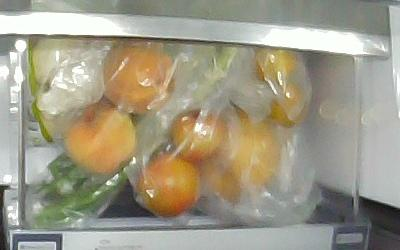peach_vinyl: (62, 98, 135, 173), (102, 44, 177, 112)
pear_vinyl: (200, 111, 279, 200)
tangerine_vinyl: (254, 48, 300, 86), (269, 84, 307, 128)
tomato_vinyl: (137, 154, 198, 216), (171, 113, 225, 159)
